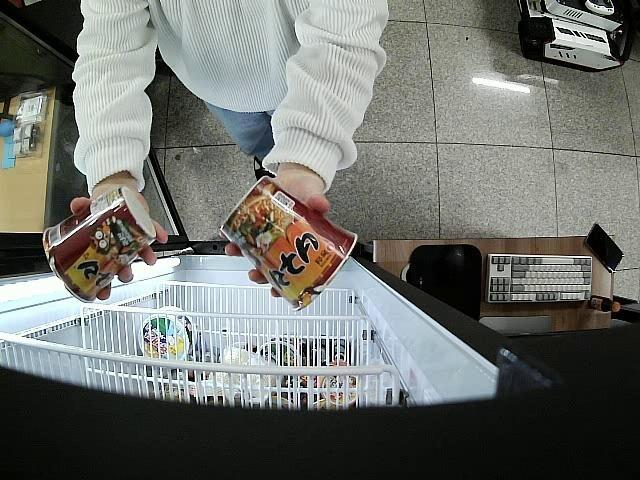06_nuguri_S: (220, 176, 357, 311), (42, 185, 157, 302)
